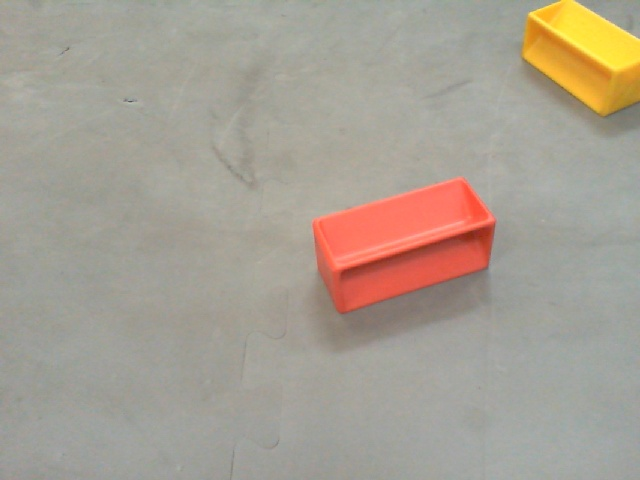RedSample: (311, 177, 498, 313)
YellowSample: (519, 1, 638, 119)
